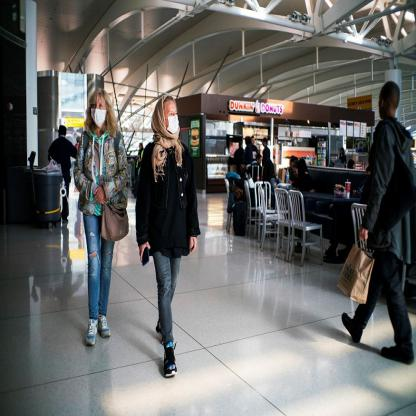Not_Wearing_Mask: (376, 90, 388, 123)
Wearing_Mask: (165, 99, 180, 139), (91, 95, 106, 123)
